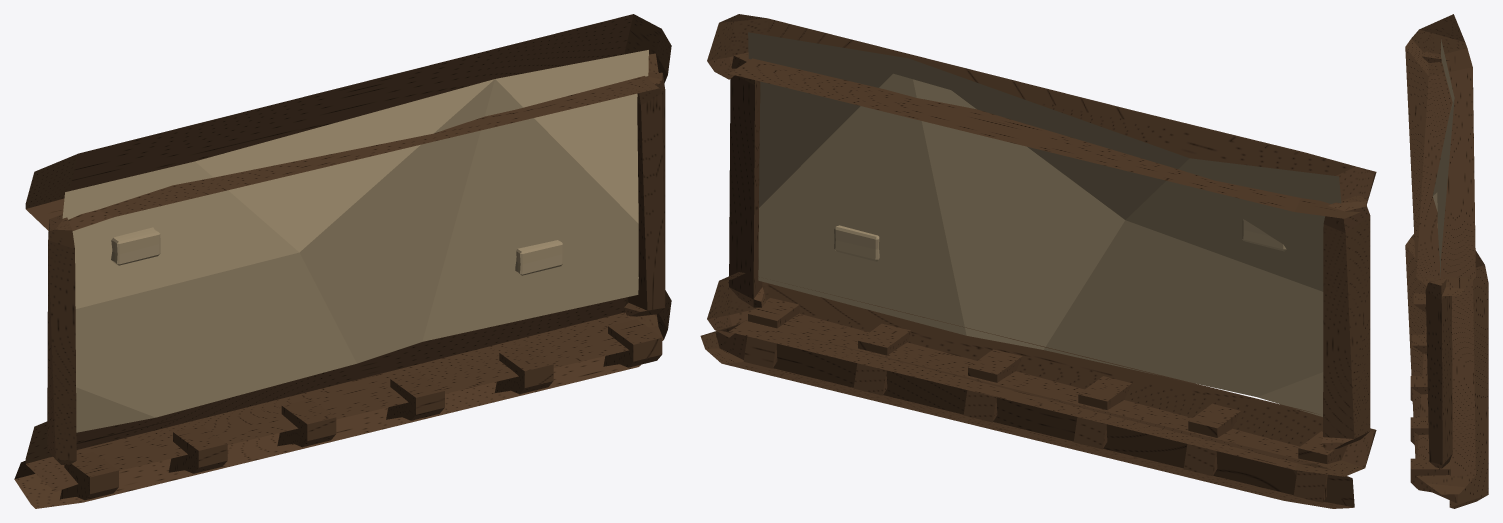
File: second_story_plain.glb
3 renders of one model, left to right at view 1: azimuth 30°, elevation 25°; view 2: azimuth 150°, elevation 25°; view 3: azimuth 270°, elevation 25°, orthographic. The views are drawn at different scales.
Parts seen in each view (by area): view 1: second_story_plain; view 2: second_story_plain; view 3: second_story_plain.
Part boxes in pixels (<box>): second_story_plain: <box>14,14,671,508</box>; second_story_plain: <box>700,14,1376,508</box>; second_story_plain: <box>1405,14,1488,508</box>.
Size of the model in its own units: 12.31 by 6.47 by 1.81.
2 materials, 2 textured.
